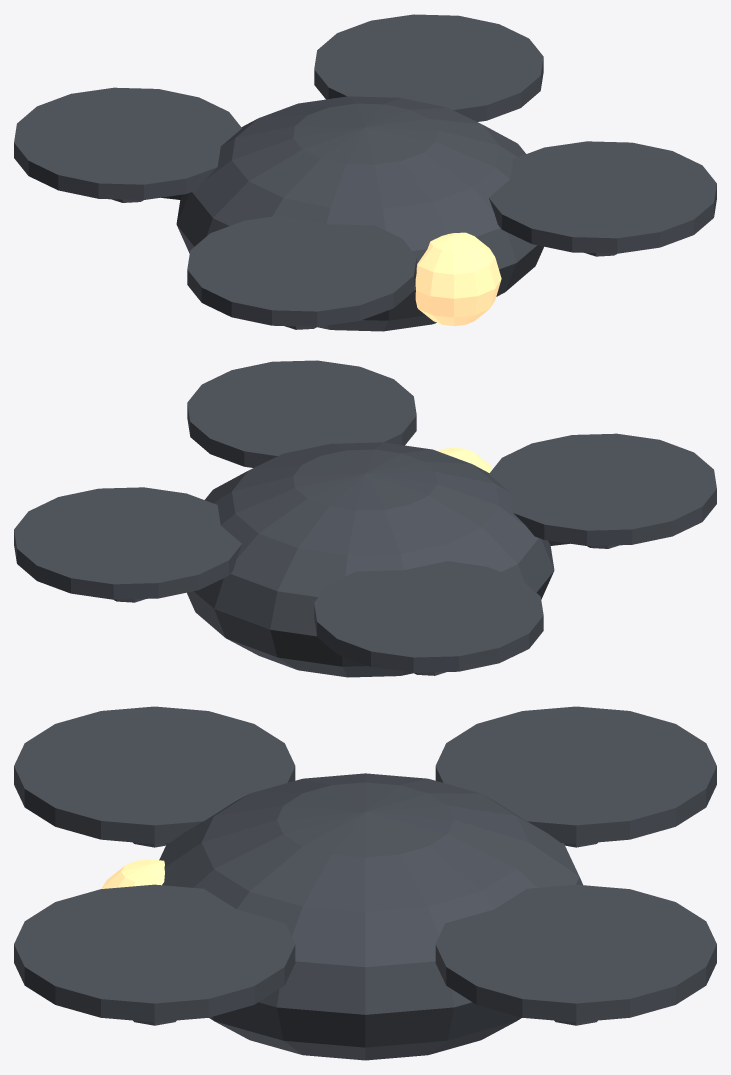
Rendered from SM_EnemyDrone01.fbx.
The picture shows the model from 3 angles, top to bottom: view 1: azimuth 30°, elevation 25°; view 2: azimuth 150°, elevation 25°; view 3: azimuth 270°, elevation 25°; orthographic projection. The views are drawn at different scales.
Visible parts, largest first — view 1: SM_EnemyDrone01; view 2: SM_EnemyDrone01; view 3: SM_EnemyDrone01.
Boxes of the visible parts, left/top/right/bottom form: SM_EnemyDrone01: left=14, top=14, right=716, bottom=331; SM_EnemyDrone01: left=14, top=360, right=716, bottom=677; SM_EnemyDrone01: left=14, top=706, right=716, bottom=1060.
Size of the model in its own units: 127 by 42 by 127.
